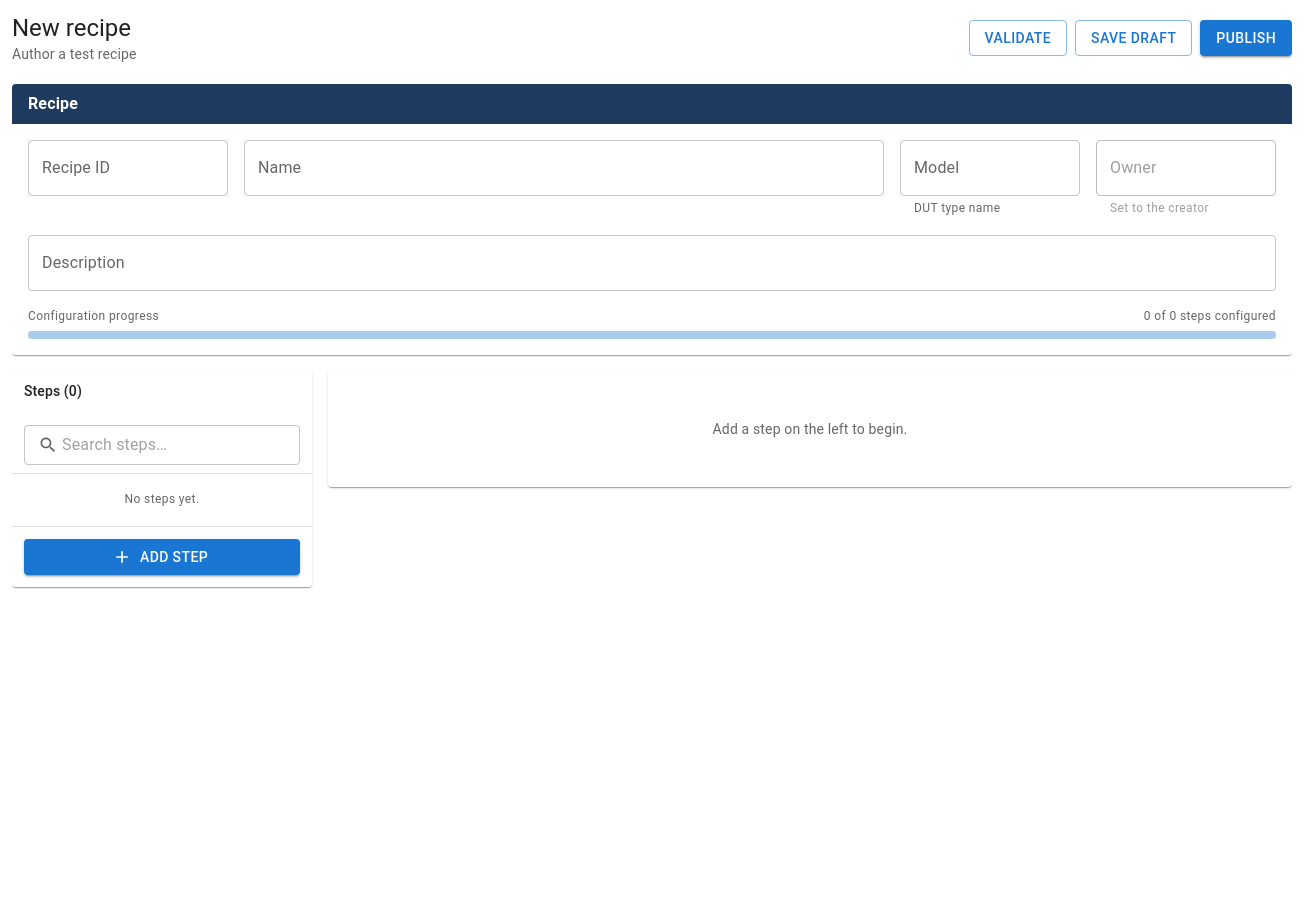
Test case: RecipeEditor › surfaces validation errors
Click the button "Validate" at [1018, 38], box [968,20,1067,56]
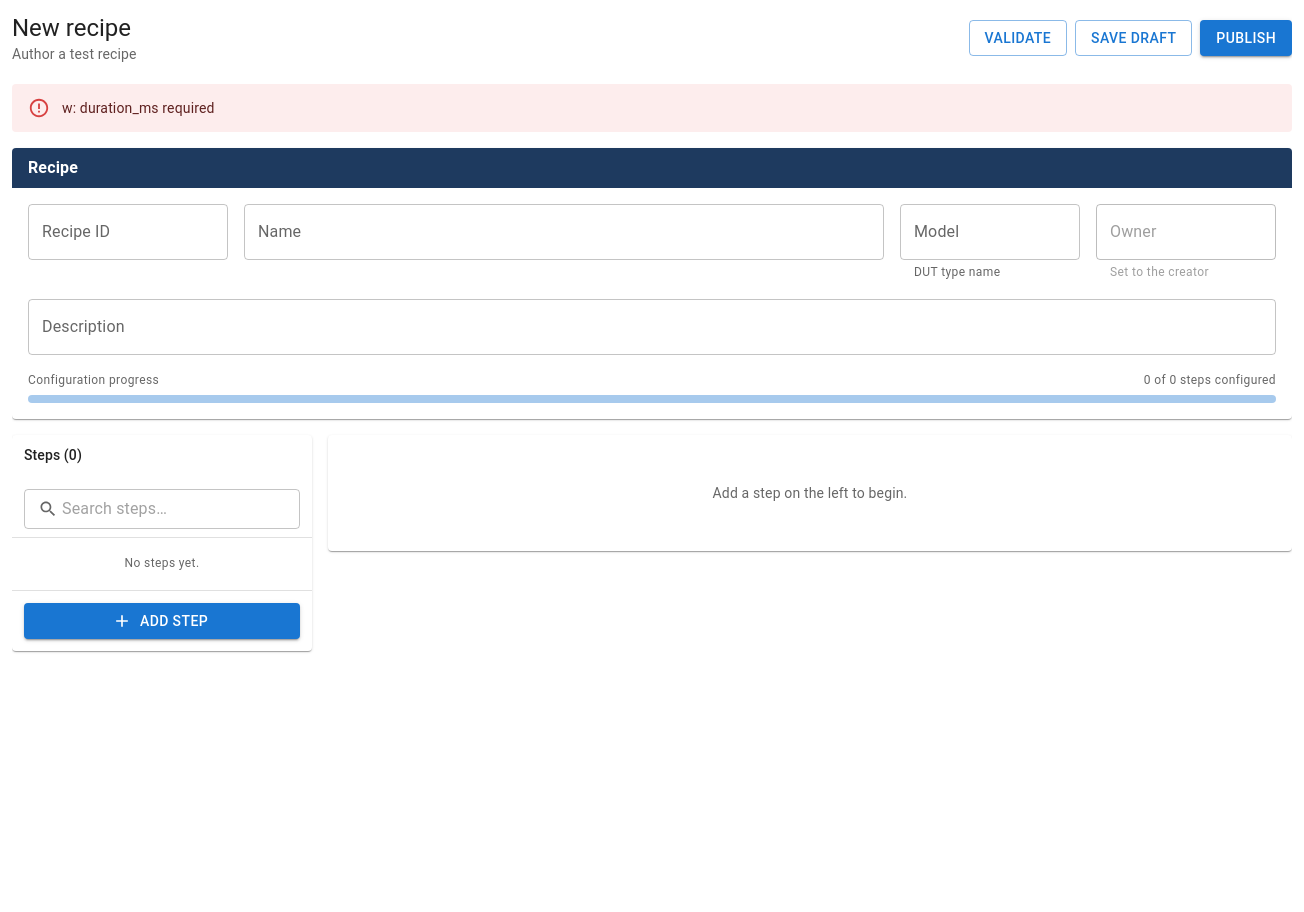
Now the text "w: duration_ms required" is shown, box [62,100,215,116]
